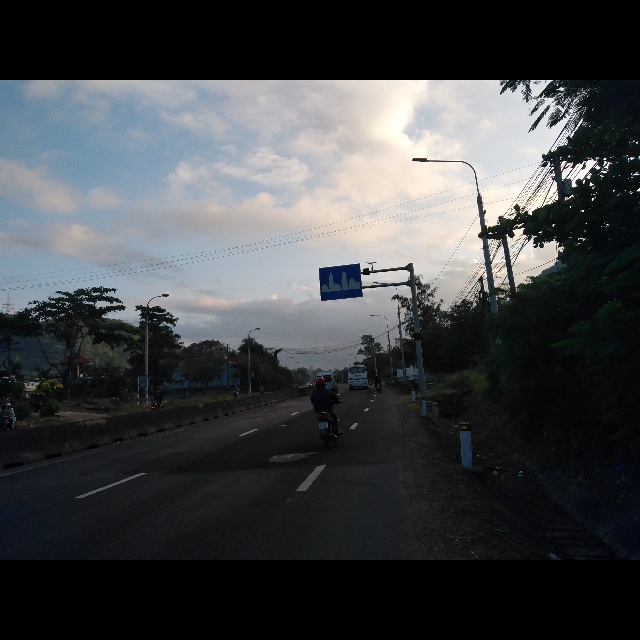Khu đông dân cư: (319, 264, 366, 300)
